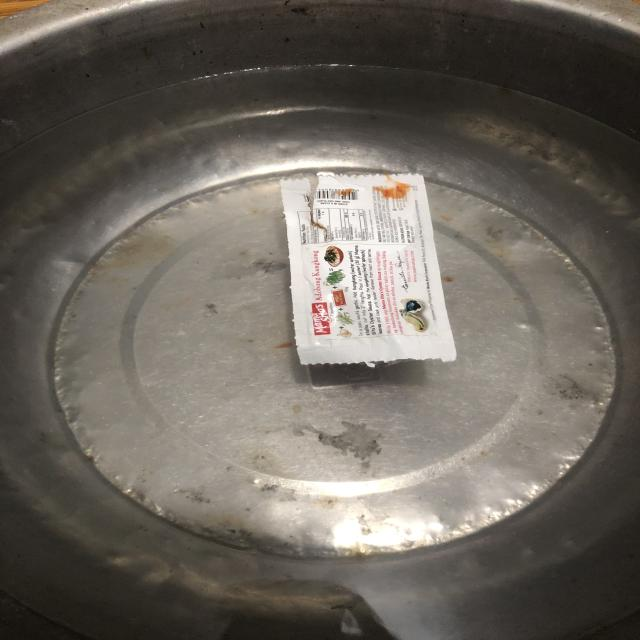Plastic Wrapper: (252, 164, 477, 387)
